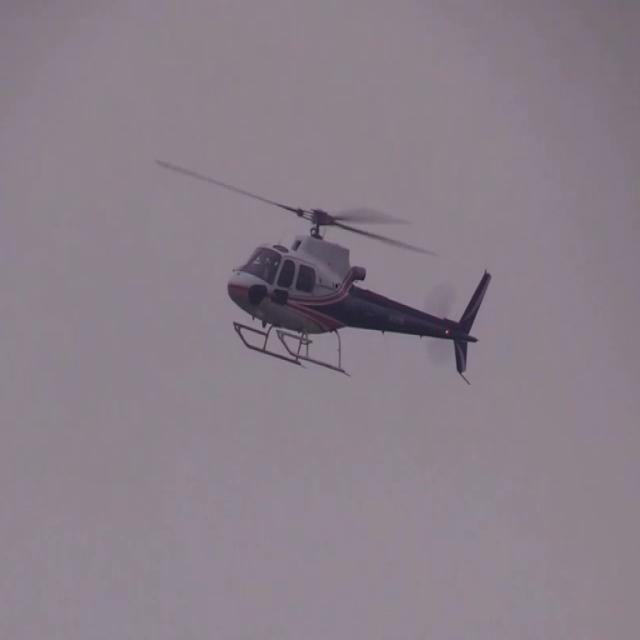Helicopter: (162, 148, 502, 404)
